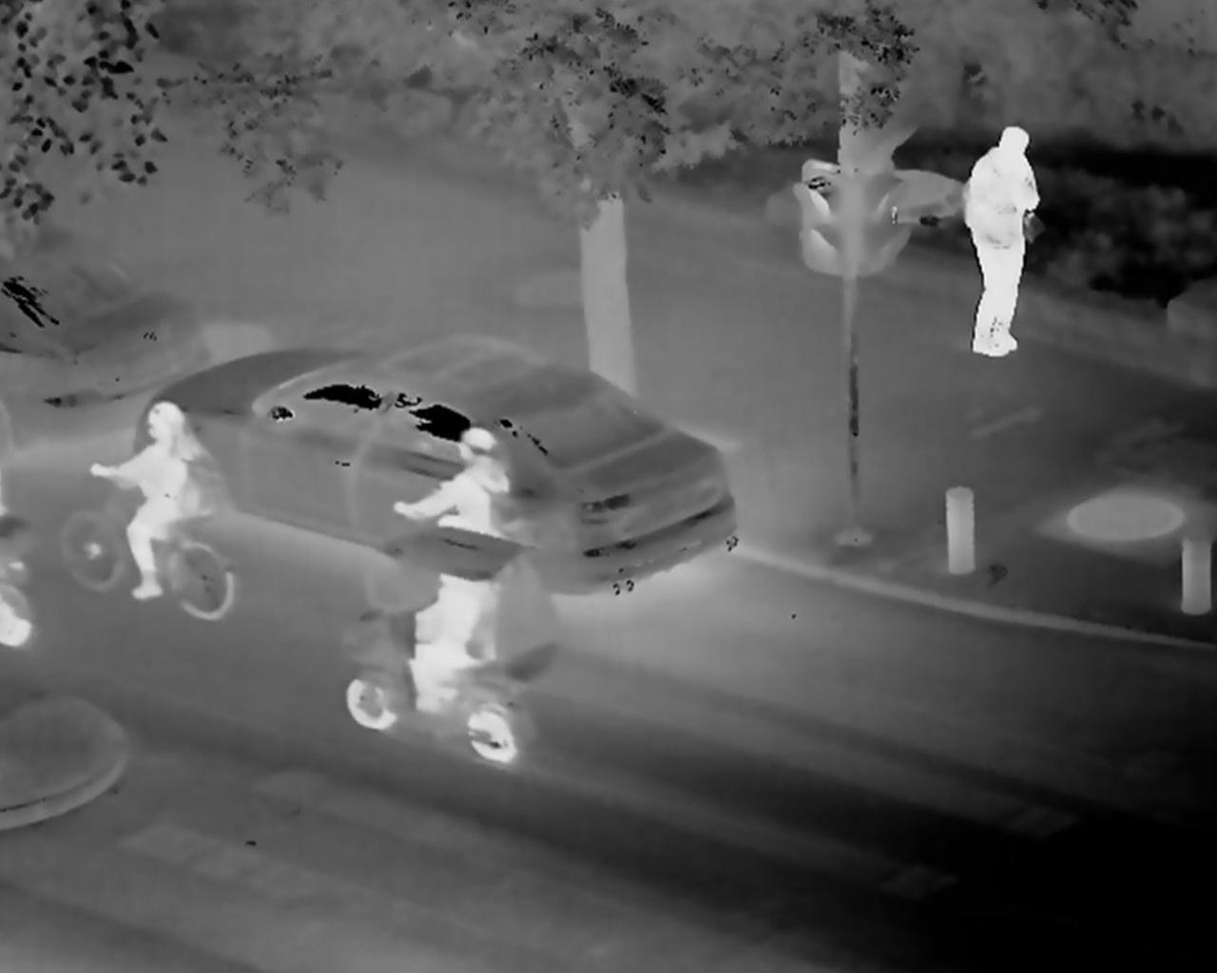person: (74, 401, 228, 618), (366, 407, 524, 602), (947, 124, 1050, 381), (409, 564, 494, 714)
